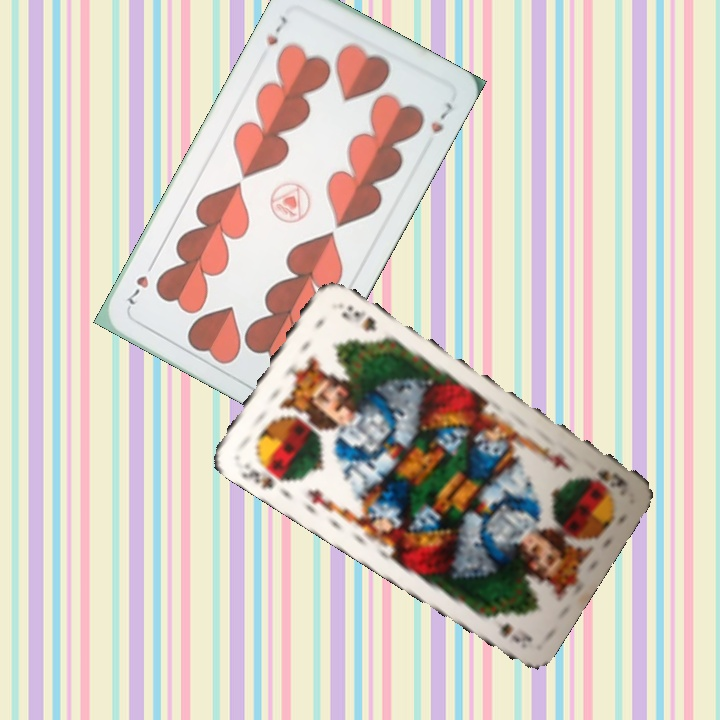H7: (262, 12, 290, 49)
SK: (236, 455, 291, 492), (593, 466, 631, 492)
